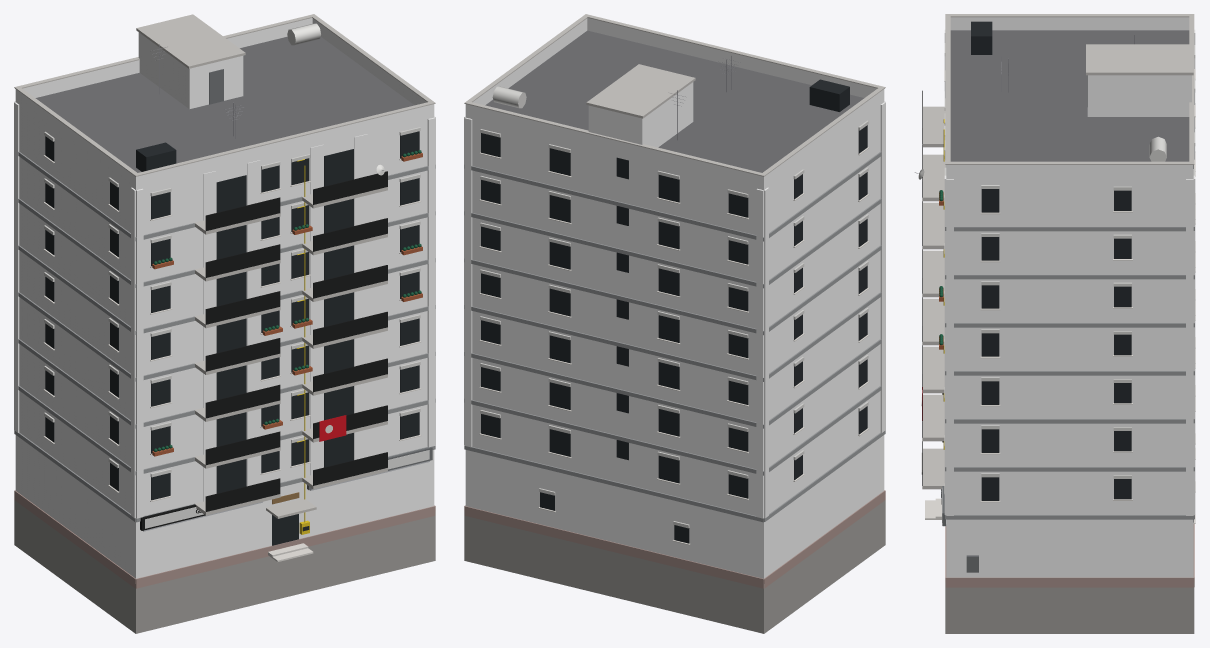
File: bina_04.glb
The picture shows the model from 3 angles, left to right: view 1: azimuth 30°, elevation 25°; view 2: azimuth 150°, elevation 25°; view 3: azimuth 270°, elevation 25°; orthographic projection. The views are drawn at different scales.
Parts seen in each view (by area): view 1: P04_Apt_Dukkanli_E_L1.001; view 2: P04_Apt_Dukkanli_E_L1.001; view 3: P04_Apt_Dukkanli_E_L1.001.
Part boxes in pixels (x1,y1,x2,y2): P04_Apt_Dukkanli_E_L1.001: (14, 14, 435, 633); P04_Apt_Dukkanli_E_L1.001: (464, 14, 885, 633); P04_Apt_Dukkanli_E_L1.001: (914, 14, 1195, 633).
Size of the model in its own units: 20.31 by 31.66 by 15.91.
